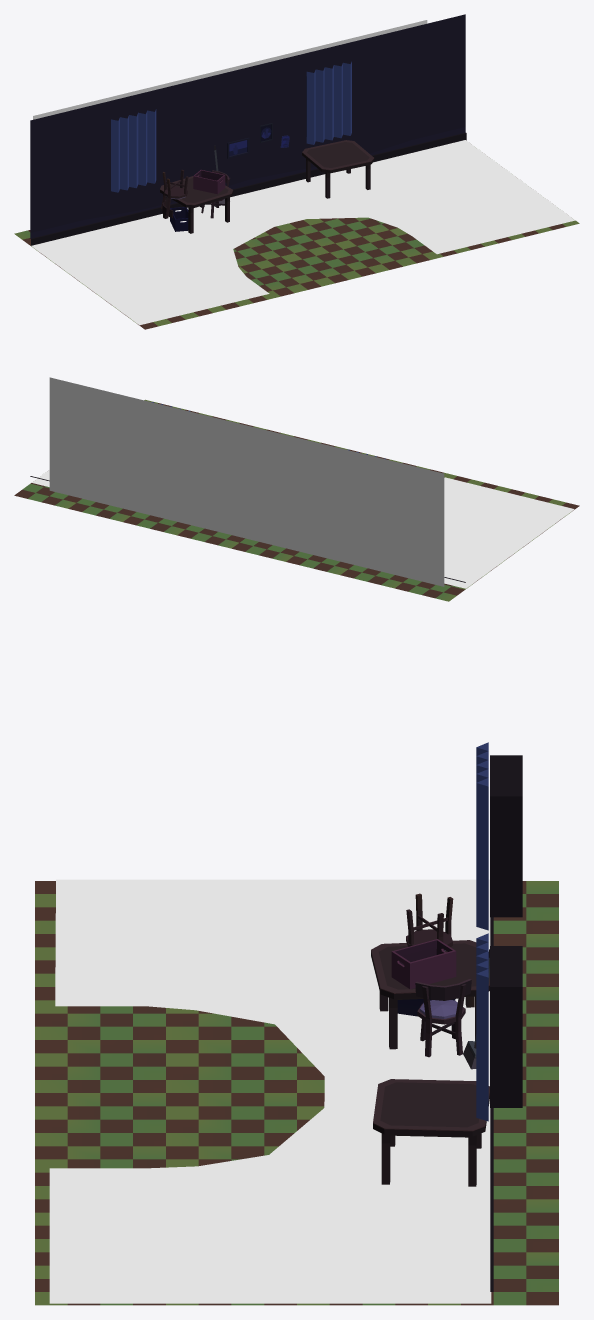
Rendered from Background_BarNight01.fbx.
3 views of the same model, one above another, from view 1: azimuth 30°, elevation 25°; view 2: azimuth 150°, elevation 25°; view 3: azimuth 270°, elevation 25° (orthographic). The views are drawn at different scales.
Parts seen in each view (by area): view 1: Mesh_BarWall01, Mesh_BarShadows, Mesh_BarGround01, Mesh_BarWindow, Mesh_BarWindow.001, Mesh_BarTableBackground01.001, Mesh_Background, Mesh_BarTableBackground01, Mesh_BarChairBackground01.001, Mesh_BarBox01, Mesh_BarBox02; view 2: Mesh_Background, Mesh_BarShadows, Mesh_BarGround01; view 3: Mesh_BarShadows, Mesh_BarGround01, Mesh_BarWall01, Mesh_BarTableBackground01.001, Mesh_BarTableBackground01, Mesh_BarChairBackground01, Mesh_BarBox01, Mesh_BarWindow, Mesh_BarWindow.001, Mesh_BarChairBackground01.001.
Part boxes in pixels (left/top/right/bottom): Mesh_BarWall01: left=30, top=14, right=466, bottom=245; Mesh_BarShadows: left=31, top=140, right=575, bottom=325; Mesh_BarGround01: left=14, top=217, right=579, bottom=329; Mesh_BarWindow: left=306, top=61, right=351, bottom=144; Mesh_BarWindow.001: left=111, top=109, right=156, bottom=192; Mesh_BarTableBackground01.001: left=302, top=140, right=374, bottom=198; Mesh_Background: left=33, top=20, right=427, bottom=119; Mesh_BarTableBackground01: left=160, top=175, right=233, bottom=233; Mesh_BarChairBackground01.001: left=161, top=169, right=188, bottom=217; Mesh_BarBox01: left=193, top=169, right=225, bottom=194; Mesh_BarBox02: left=170, top=207, right=188, bottom=231; Mesh_Background: left=49, top=377, right=444, bottom=586; Mesh_BarShadows: left=32, top=470, right=574, bottom=588; Mesh_BarGround01: left=14, top=399, right=579, bottom=601; Mesh_BarShadows: left=49, top=879, right=491, bottom=1303; Mesh_BarGround01: left=35, top=881, right=558, bottom=1305; Mesh_BarWall01: left=490, top=755, right=522, bottom=1291; Mesh_BarTableBackground01.001: left=373, top=1079, right=489, bottom=1186; Mesh_BarTableBackground01: left=371, top=940, right=489, bottom=1049; Mesh_BarChairBackground01: left=415, top=979, right=471, bottom=1057; Mesh_BarBox01: left=391, top=939, right=456, bottom=989; Mesh_BarWindow: left=476, top=933, right=488, bottom=1121; Mesh_BarWindow.001: left=476, top=742, right=488, bottom=930; Mesh_BarChairBackground01.001: left=406, top=893, right=453, bottom=951.
Bounding box in the file's own units: 132 × 68.74 × 36.44.
